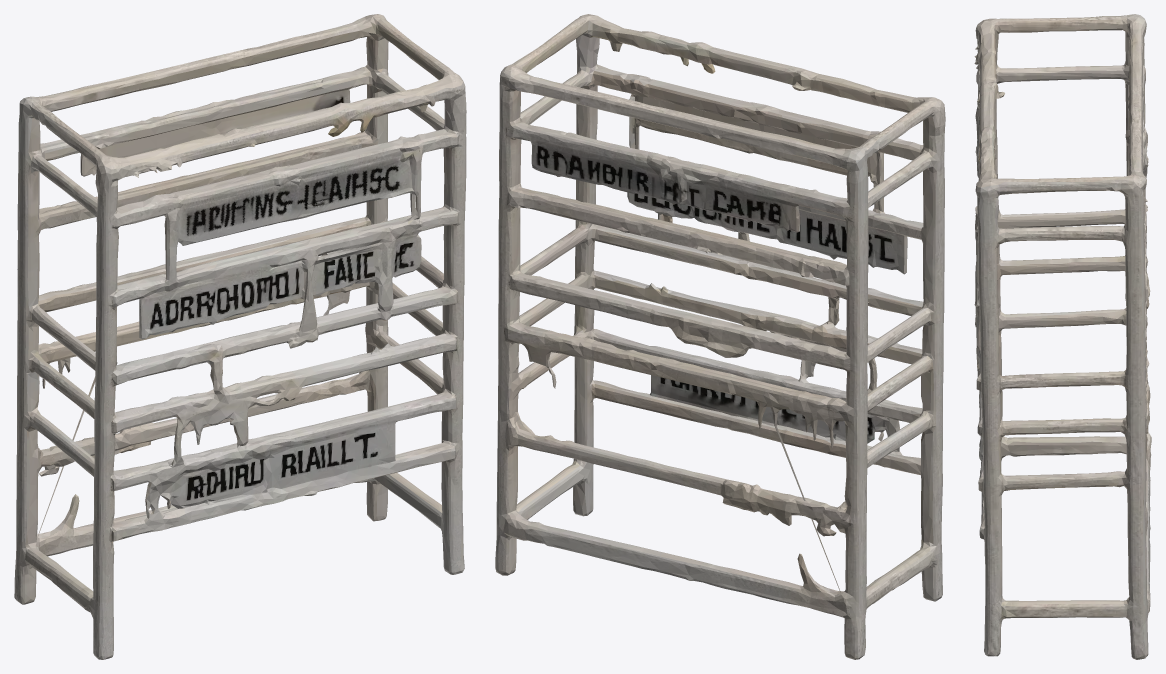
Rendered from chest (232).glb.
3 renders of one model, left to right at view 1: azimuth 30°, elevation 25°; view 2: azimuth 150°, elevation 25°; view 3: azimuth 270°, elevation 25°, orthographic. The views are drawn at different scales.
Parts seen in each view (by area): view 1: Hy21_Mesh.obj; view 2: Hy21_Mesh.obj; view 3: Hy21_Mesh.obj.
Part boxes in pixels (bbox=[...]): Hy21_Mesh.obj: bbox=[14, 14, 466, 659]; Hy21_Mesh.obj: bbox=[495, 14, 945, 659]; Hy21_Mesh.obj: bbox=[974, 14, 1151, 659].
Bounding box in the file's own units: 1.48 × 1.96 × 0.6534.
Materials: 1 (1 with a texture image).
